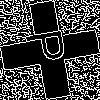P: (25, 25, 76, 66)
